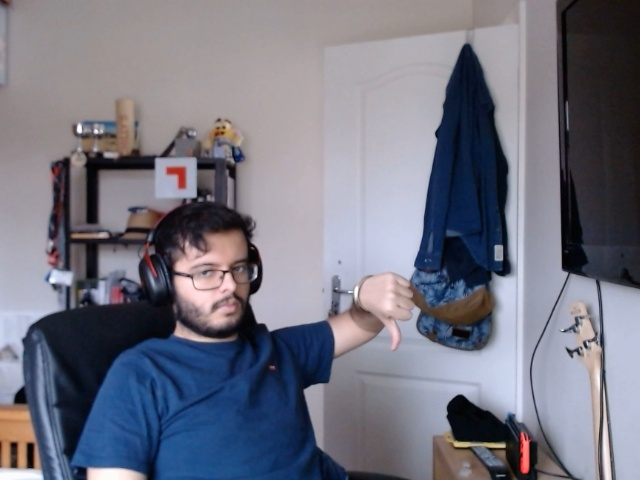Thumbs down: (360, 259, 437, 357)
